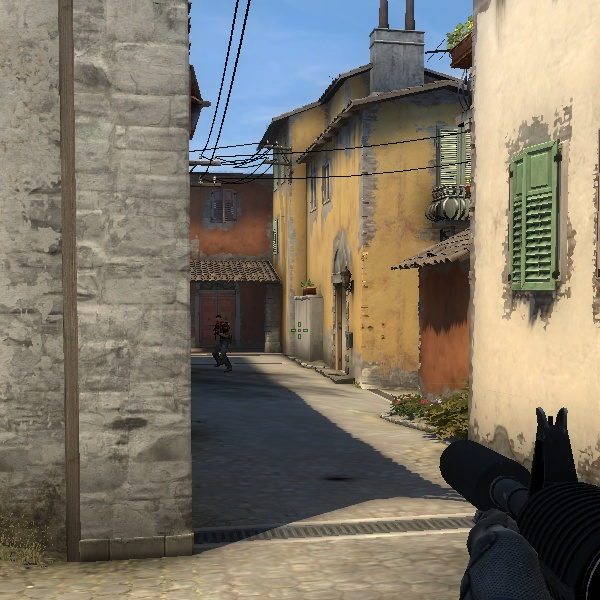t_body: (204, 311, 237, 362)
